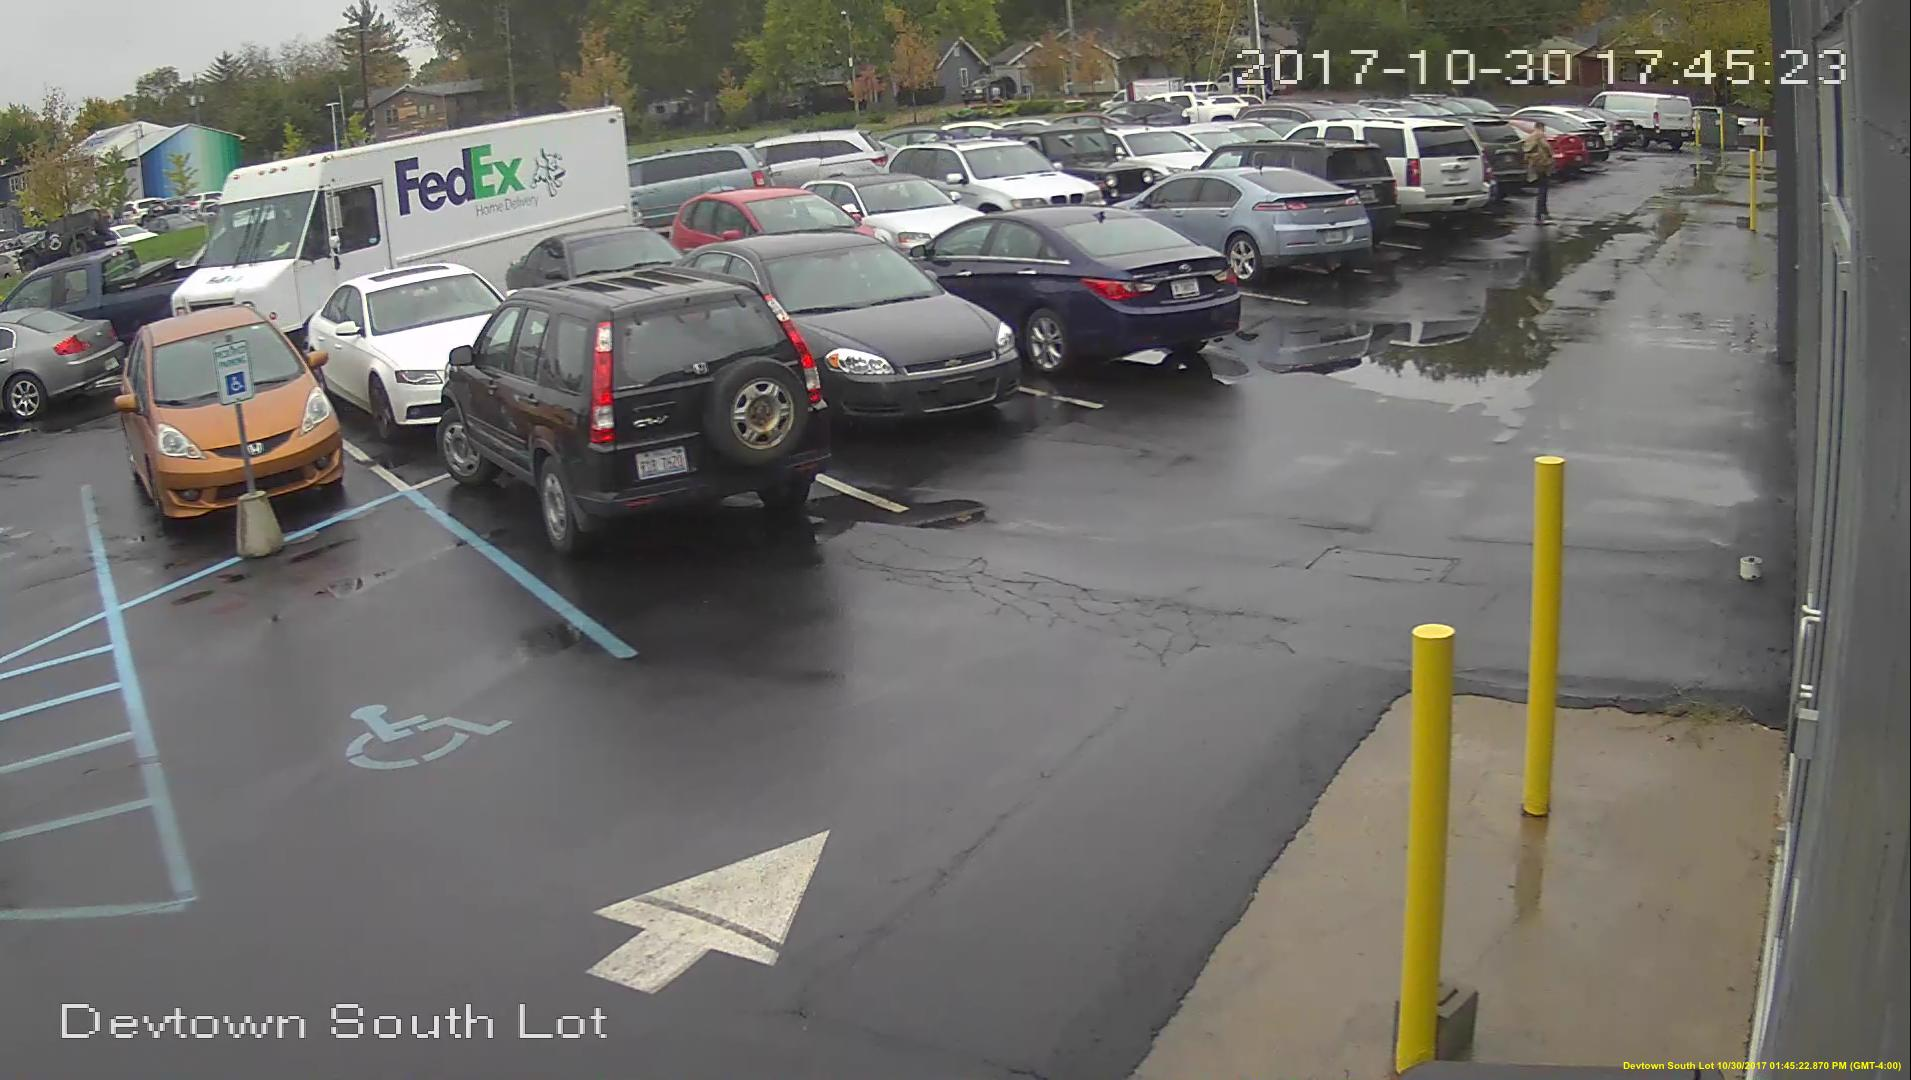fedex_truck: (188, 130, 622, 341)
